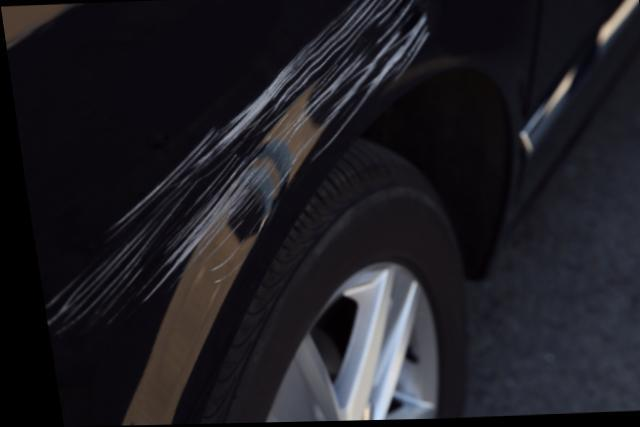scratch: (33, 0, 431, 336)
